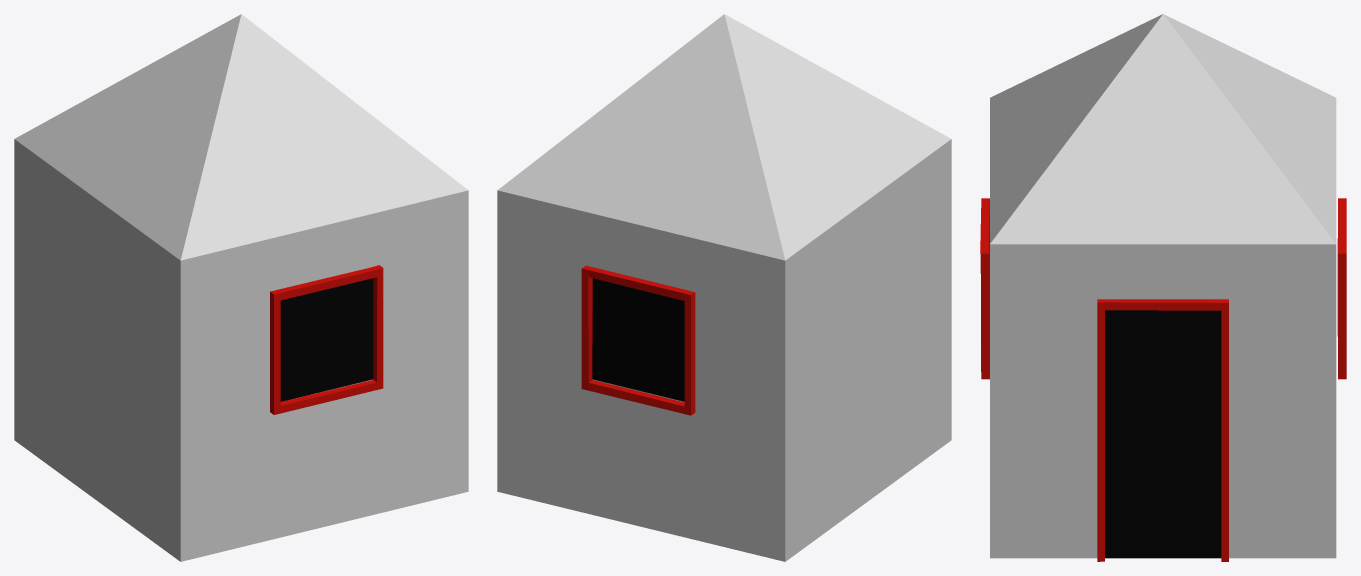
Rendered from smallhouse.glb.
3 views of the same model, side by side, from view 1: azimuth 30°, elevation 25°; view 2: azimuth 150°, elevation 25°; view 3: azimuth 270°, elevation 25° (orthographic). The views are drawn at different scales.
Visible parts, largest first — view 1: Black, Cone, Cube.001; view 2: Black, Cone, Cube.003; view 3: Black, Cone, Cube.002, Cube.003, Cube.001.
Part boxes in pixels (left/top/right/bottom): Black: left=14, top=139, right=468, bottom=561; Cone: left=15, top=14, right=467, bottom=260; Cube.001: left=270, top=265, right=383, bottom=414; Black: left=497, top=139, right=951, bottom=561; Cone: left=498, top=14, right=950, bottom=260; Cube.003: left=581, top=265, right=695, bottom=415; Black: left=990, top=244, right=1336, bottom=558; Cone: left=990, top=14, right=1336, bottom=244; Cube.002: left=1097, top=299, right=1228, bottom=561; Cube.003: left=1337, top=198, right=1346, bottom=379; Cube.001: left=980, top=198, right=989, bottom=379.
Bounding box in the file's own units: 2.05 × 3 × 2.11.
